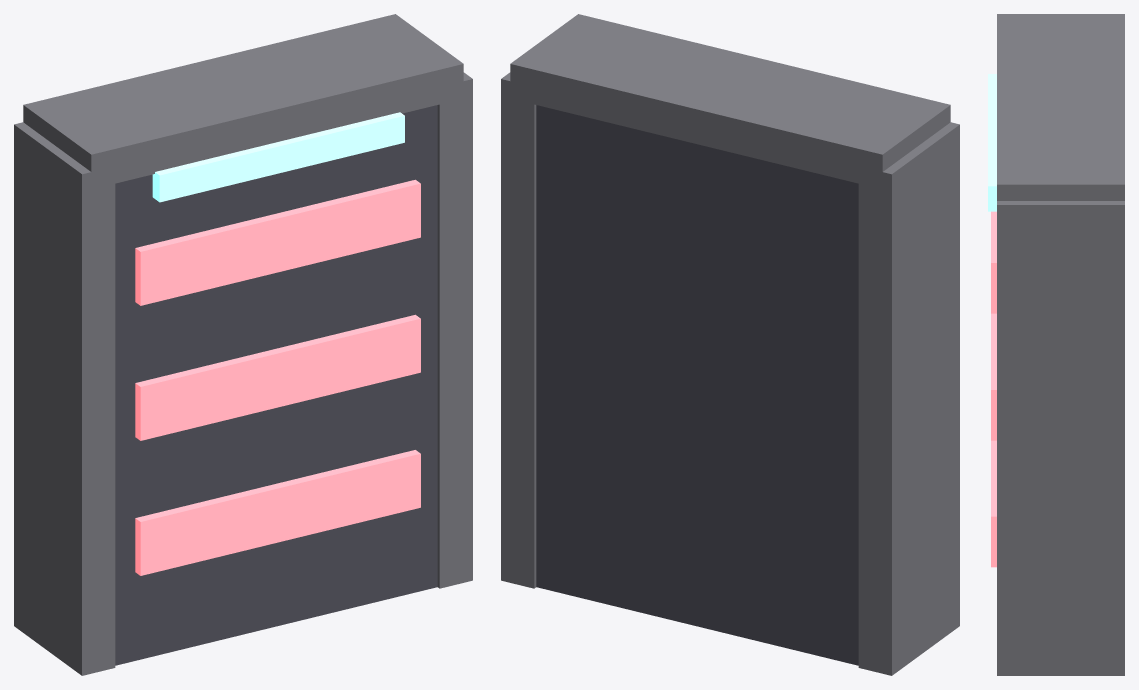
File: obs_wall.glb
3 views of the same model, side by side, from view 1: azimuth 30°, elevation 25°; view 2: azimuth 150°, elevation 25°; view 3: azimuth 270°, elevation 25° (orthographic). The views are drawn at different scales.
Parts seen in each view (by area): view 1: obs_wall; view 2: obs_wall; view 3: obs_wall.
Part boxes in pixels (x1=…): obs_wall: x1=14, y1=14, x2=472, y2=675; obs_wall: x1=501, y1=14, x2=959, y2=675; obs_wall: x1=988, y1=14, x2=1124, y2=675.
Size of the model in its own units: 2.12 by 2.69 by 0.685.
